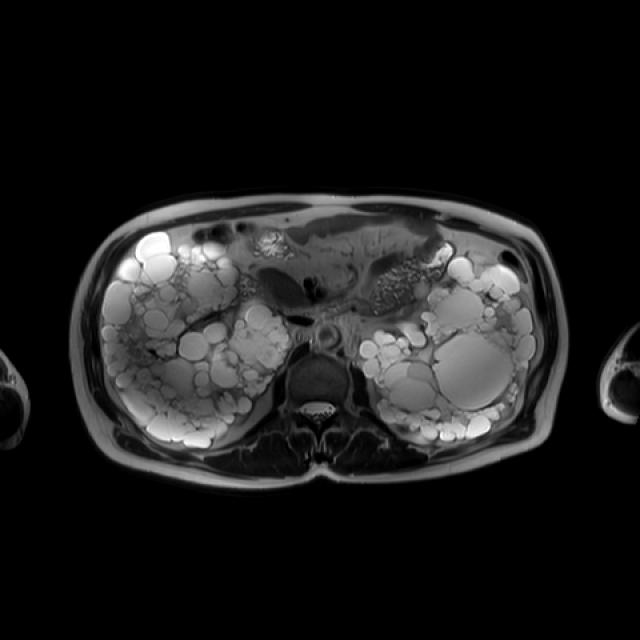sag: (102, 231, 295, 449)
sol: (358, 256, 538, 446)
